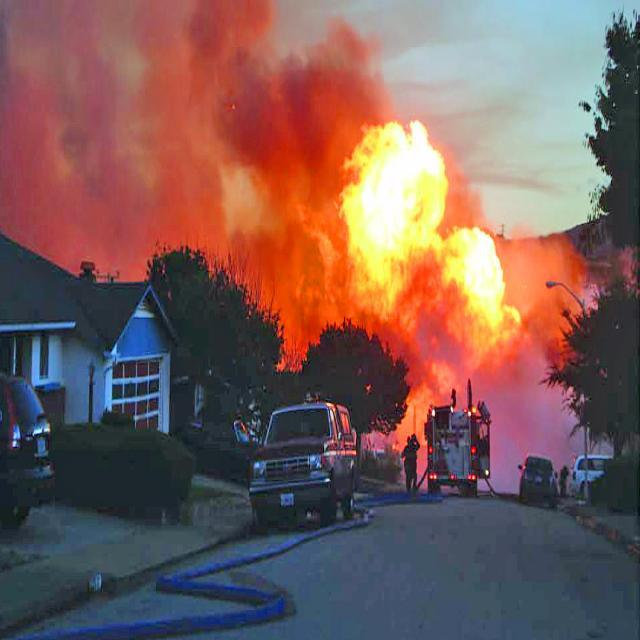Smoke: (0, 0, 594, 501)
